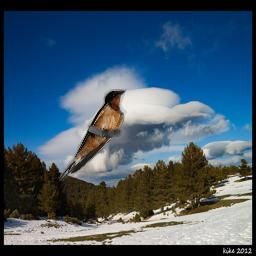Swallow: (56, 88, 127, 181)
